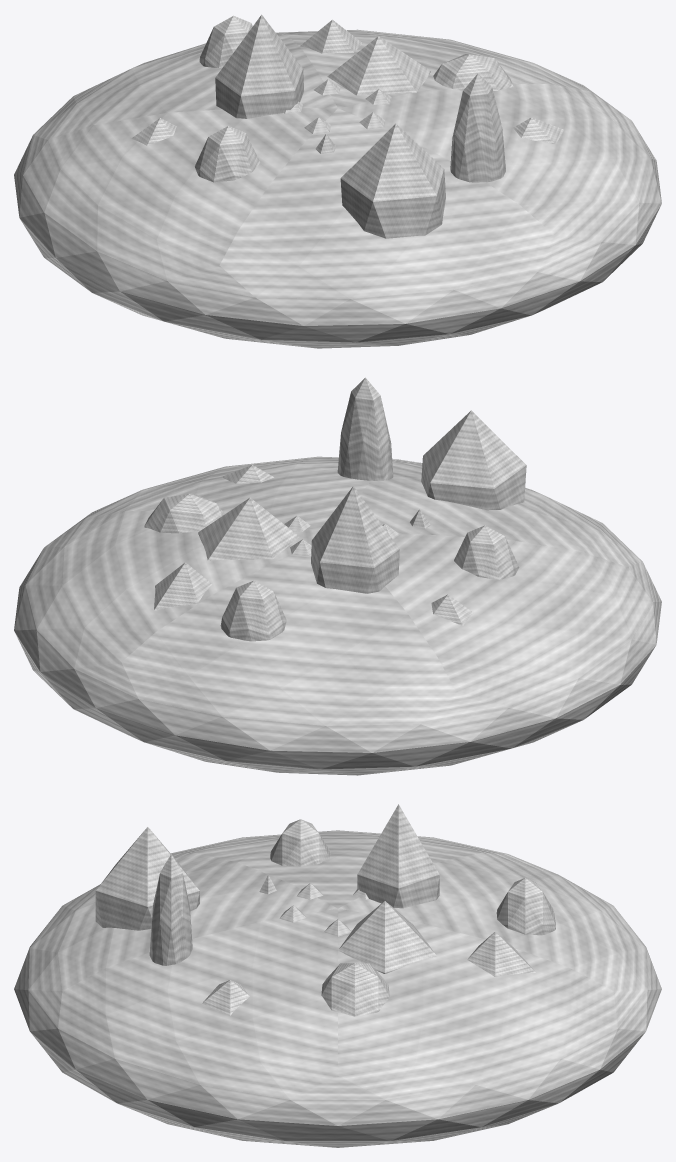
The model's file is bauxite_node_variant_b.glb.
The picture shows the model from 3 angles, top to bottom: view 1: azimuth 30°, elevation 25°; view 2: azimuth 150°, elevation 25°; view 3: azimuth 270°, elevation 25°; orthographic projection.
Parts seen in each view (by area): view 1: Resource node bedrock.001, Exposed ore formation.018, Exposed ore formation.014, Exposed ore formation.019, Exposed ore formation.011, Exposed ore formation.016, Exposed ore formation.010, Exposed ore formation.013, Exposed ore formation.012, Exposed ore formation.020, Exposed ore formation.015; view 2: Resource node bedrock.001, Exposed ore formation.018, Exposed ore formation.014, Exposed ore formation.019, Exposed ore formation.011, Exposed ore formation.013, Exposed ore formation.016, Exposed ore formation.010, Exposed ore formation.012, Exposed ore formation.015, Exposed ore formation.020; view 3: Resource node bedrock.001, Exposed ore formation.014, Exposed ore formation.018, Exposed ore formation.011, Exposed ore formation.019, Exposed ore formation.010, Exposed ore formation.013, Exposed ore formation.016, Exposed ore formation.012, Exposed ore formation.020.
Boxes of the visible parts, x1,y1,x2,y2 form: Resource node bedrock.001: [14, 29, 661, 348]; Exposed ore formation.018: [340, 123, 445, 238]; Exposed ore formation.014: [215, 14, 303, 118]; Exposed ore formation.019: [450, 73, 505, 182]; Exposed ore formation.011: [327, 36, 430, 95]; Exposed ore formation.016: [195, 126, 260, 182]; Exposed ore formation.010: [433, 54, 513, 90]; Exposed ore formation.013: [199, 15, 252, 67]; Exposed ore formation.012: [300, 19, 362, 53]; Exposed ore formation.020: [513, 117, 563, 144]; Exposed ore formation.015: [131, 118, 176, 145]; Resource node bedrock.001: [14, 456, 661, 775]; Exposed ore formation.018: [421, 410, 526, 510]; Exposed ore formation.014: [311, 486, 399, 593]; Exposed ore formation.019: [337, 377, 393, 480]; Exposed ore formation.011: [198, 497, 299, 560]; Exposed ore formation.013: [220, 580, 286, 641]; Exposed ore formation.016: [454, 525, 519, 579]; Exposed ore formation.010: [144, 493, 224, 533]; Exposed ore formation.012: [154, 562, 212, 610]; Exposed ore formation.015: [431, 594, 473, 625]; Exposed ore formation.020: [220, 465, 273, 483]; Resource node bedrock.001: [14, 830, 661, 1147]; Exposed ore formation.014: [357, 804, 439, 908]; Exposed ore formation.018: [95, 827, 199, 930]; Exposed ore formation.011: [338, 901, 436, 973]; Exposed ore formation.019: [149, 854, 192, 965]; Exposed ore formation.010: [321, 963, 389, 1016]; Exposed ore formation.013: [496, 878, 555, 935]; Exposed ore formation.016: [270, 819, 330, 866]; Exposed ore formation.012: [467, 931, 535, 976]; Exposed ore formation.020: [202, 980, 249, 1015].
Size of what is drawn, in the model's own units: 6.2 by 2.57 by 6.2.
2 materials, 2 textured.
